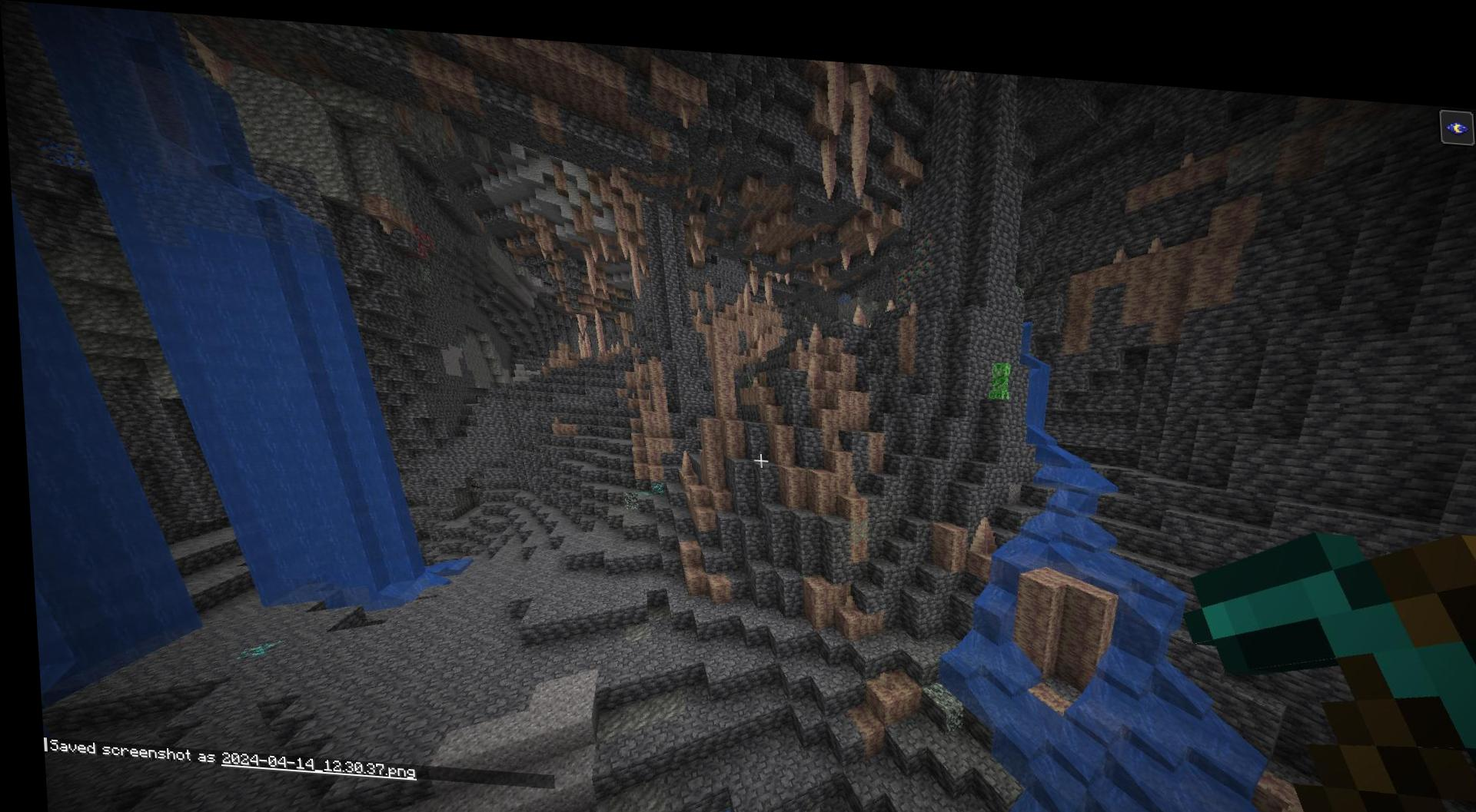diamond ore: (232, 635, 272, 660), (645, 472, 663, 485)
